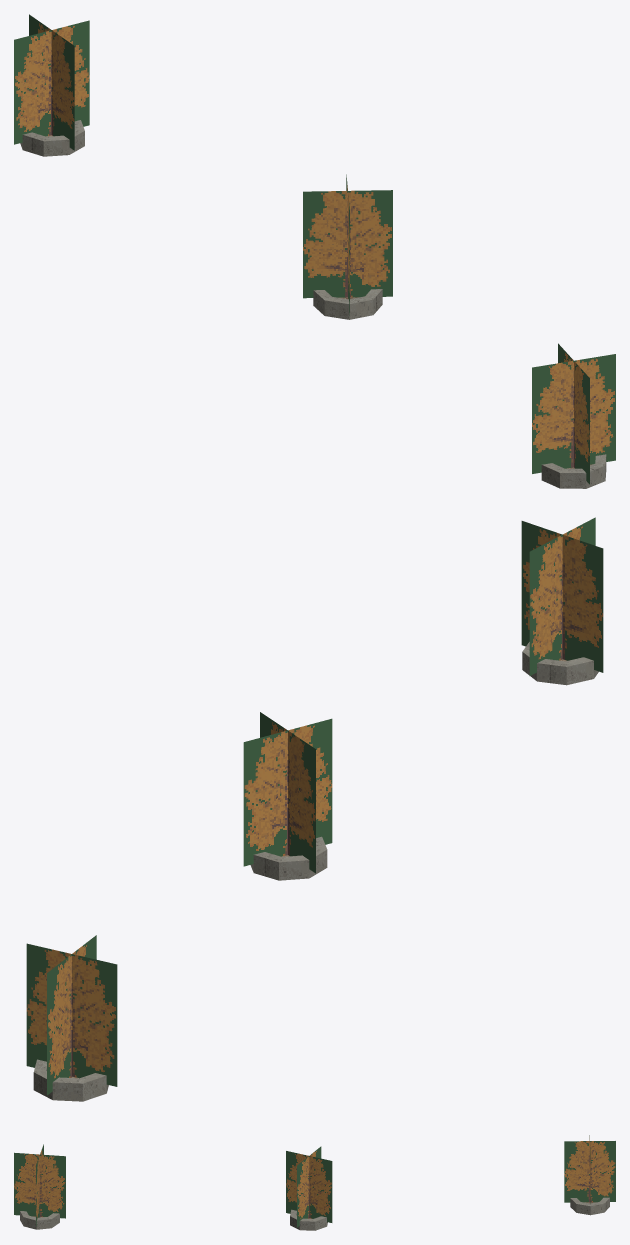
The model's file is procgen-procpain-tree-park-large-x2z0.obj.
The picture shows the model from 3 angles, top to bottom: view 1: azimuth 30°, elevation 25°; view 2: azimuth 150°, elevation 25°; view 3: azimuth 270°, elevation 25°; orthographic projection. The views are drawn at different scales.
Size of the model in its own units: 7.58 by 6.45 by 52.67.
